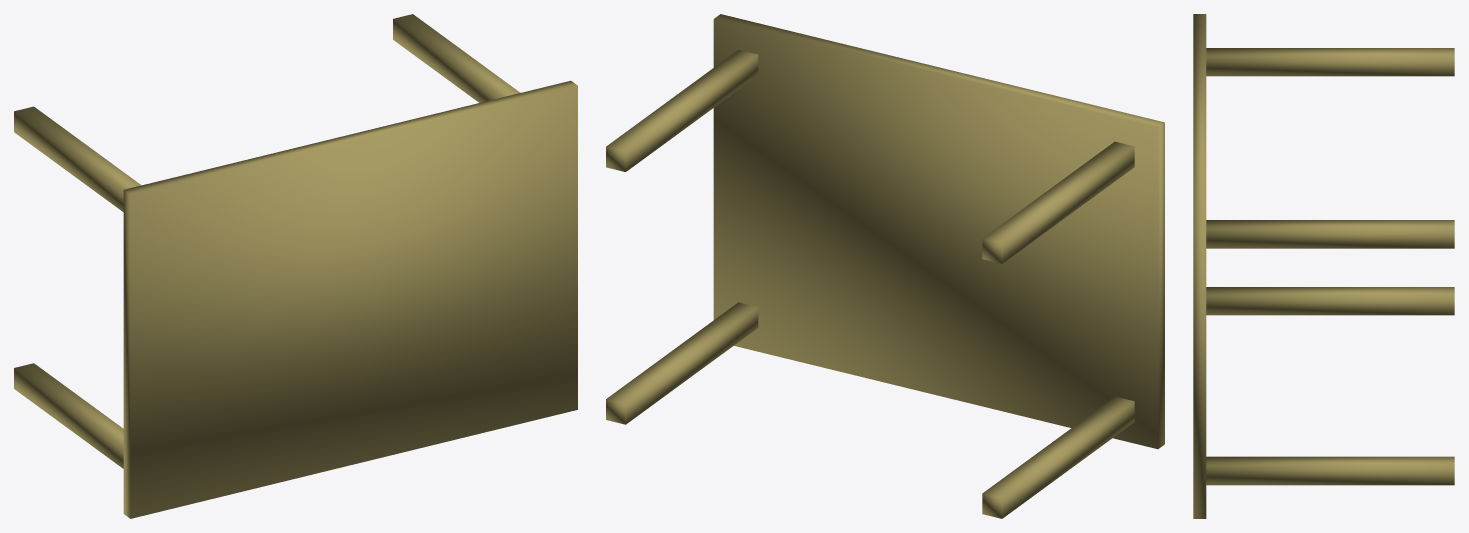
The model's file is tisch.obj.
3 views of the same model, side by side, from view 1: azimuth 30°, elevation 25°; view 2: azimuth 150°, elevation 25°; view 3: azimuth 270°, elevation 25° (orthographic). The views are drawn at different scales.
Visible parts, largest first — view 1: Plane.011; view 2: Plane.011; view 3: Plane.011.
Boxes of the visible parts, box(x1,y1,x2,y2) form: Plane.011: box(14, 14, 577, 518); Plane.011: box(606, 14, 1164, 518); Plane.011: box(1193, 14, 1454, 518).
Size of the model in its own units: 38.1 by 26.37 by 20.68.
